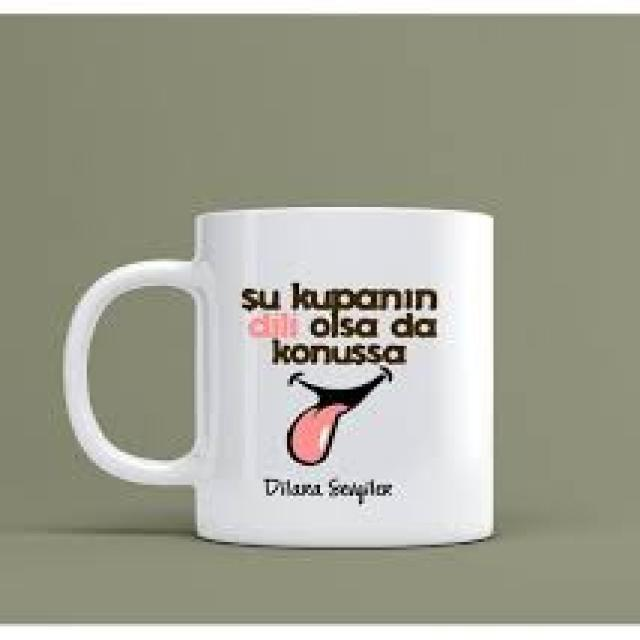taza: (64, 206, 495, 544)
